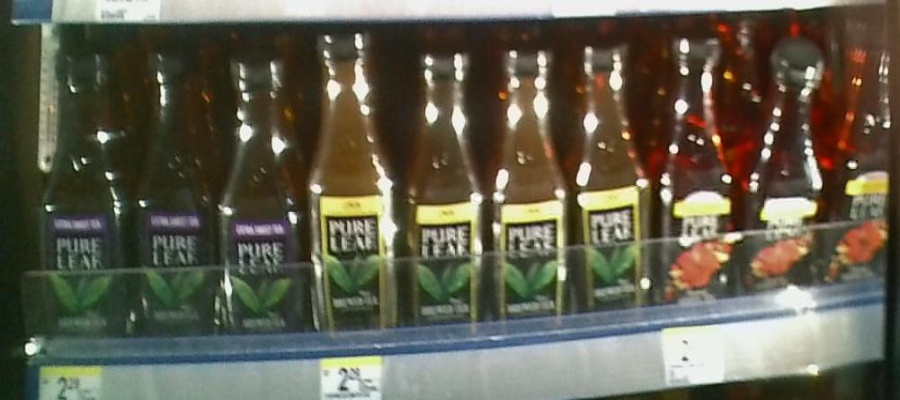bottle: (305, 31, 396, 339), (37, 47, 127, 348), (397, 41, 486, 340), (214, 48, 305, 332), (573, 42, 656, 321), (487, 41, 566, 332), (745, 32, 827, 311), (130, 41, 209, 329), (661, 40, 741, 320), (832, 14, 890, 266)
